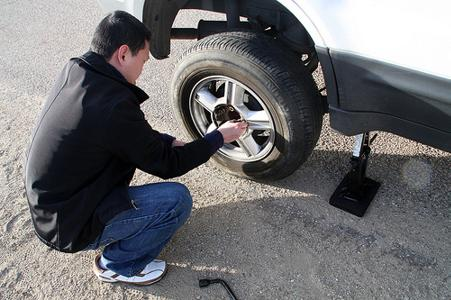person: (22, 8, 252, 291)
